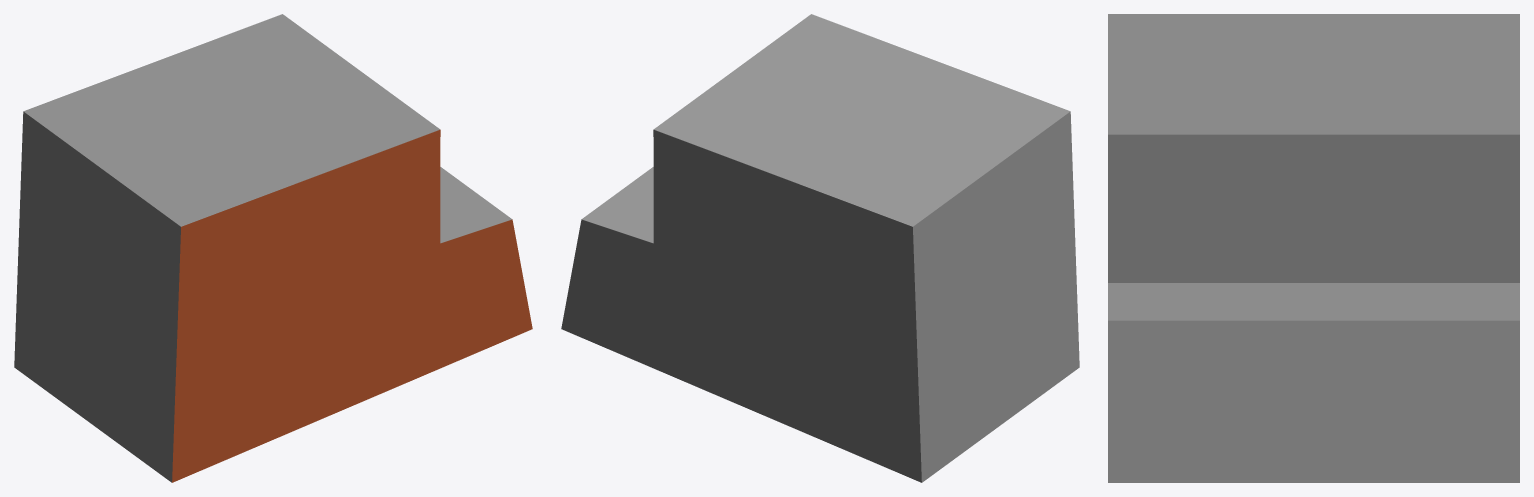
The model's file is construction_4573_assumed_A_Casa_h6m.obj.
3 views of the same model, side by side, from view 1: azimuth 30°, elevation 25°; view 2: azimuth 150°, elevation 25°; view 3: azimuth 270°, elevation 25° (orthographic). The views are drawn at different scales.
Visible parts, largest first — view 1: construction_4573_assumed_A_Casa; view 2: construction_4573_assumed_A_Casa; view 3: construction_4573_assumed_A_Casa.
Boxes of the visible parts, x1,y1,x2,y2 form: construction_4573_assumed_A_Casa: [14, 14, 532, 482]; construction_4573_assumed_A_Casa: [561, 14, 1079, 482]; construction_4573_assumed_A_Casa: [1108, 14, 1519, 482].
Bounding box in the file's own units: 7.91 × 6.04 × 6.
